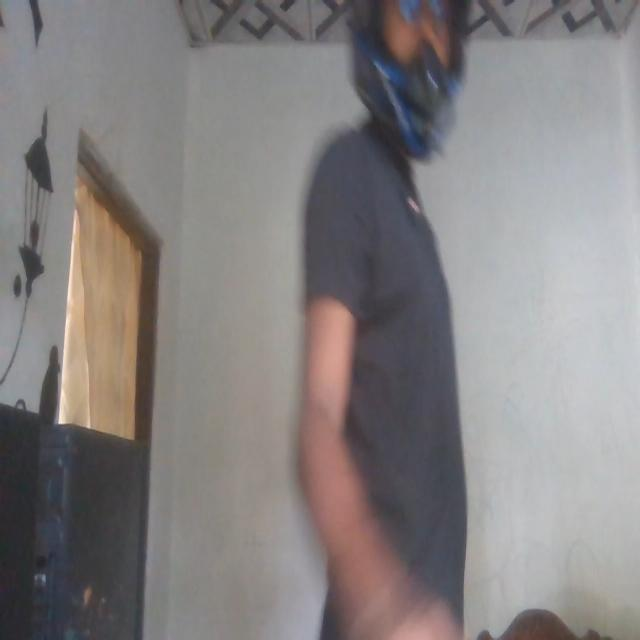Helmet_Wearer: (341, 0, 476, 188)
Person: (298, 0, 508, 640)
